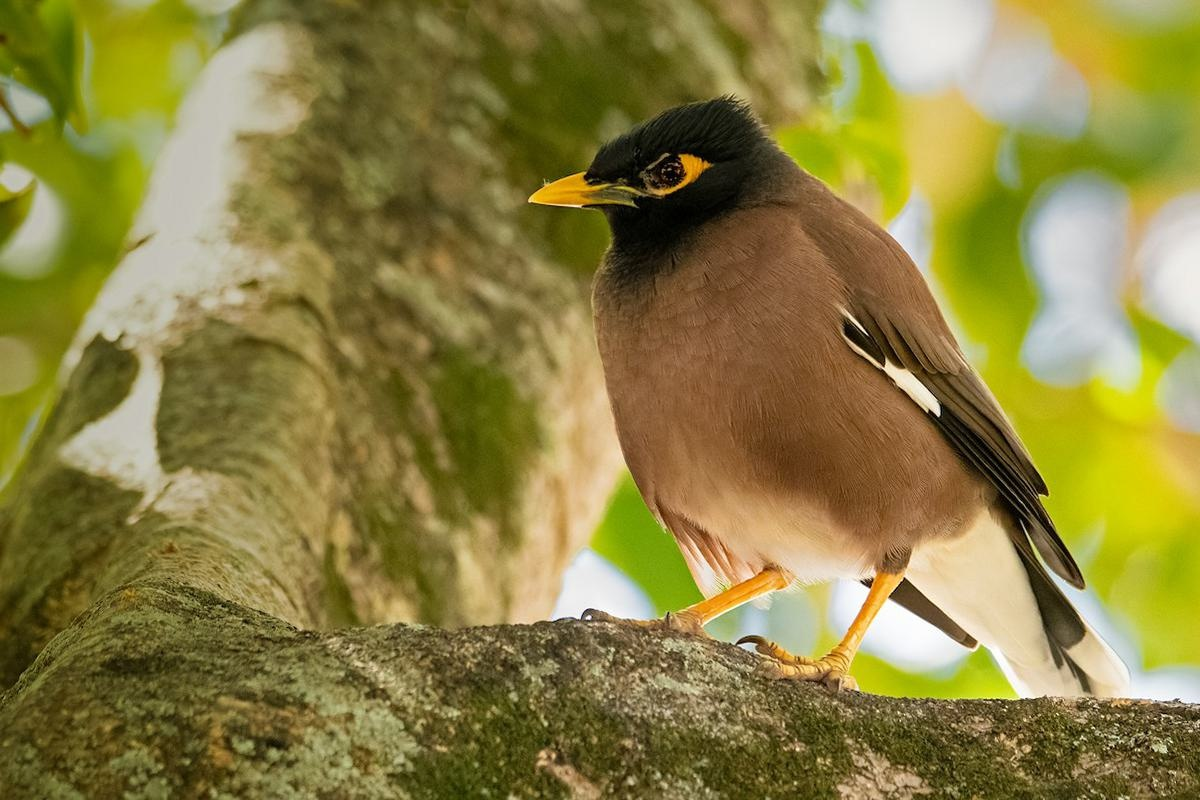myna: (537, 88, 1077, 628)
